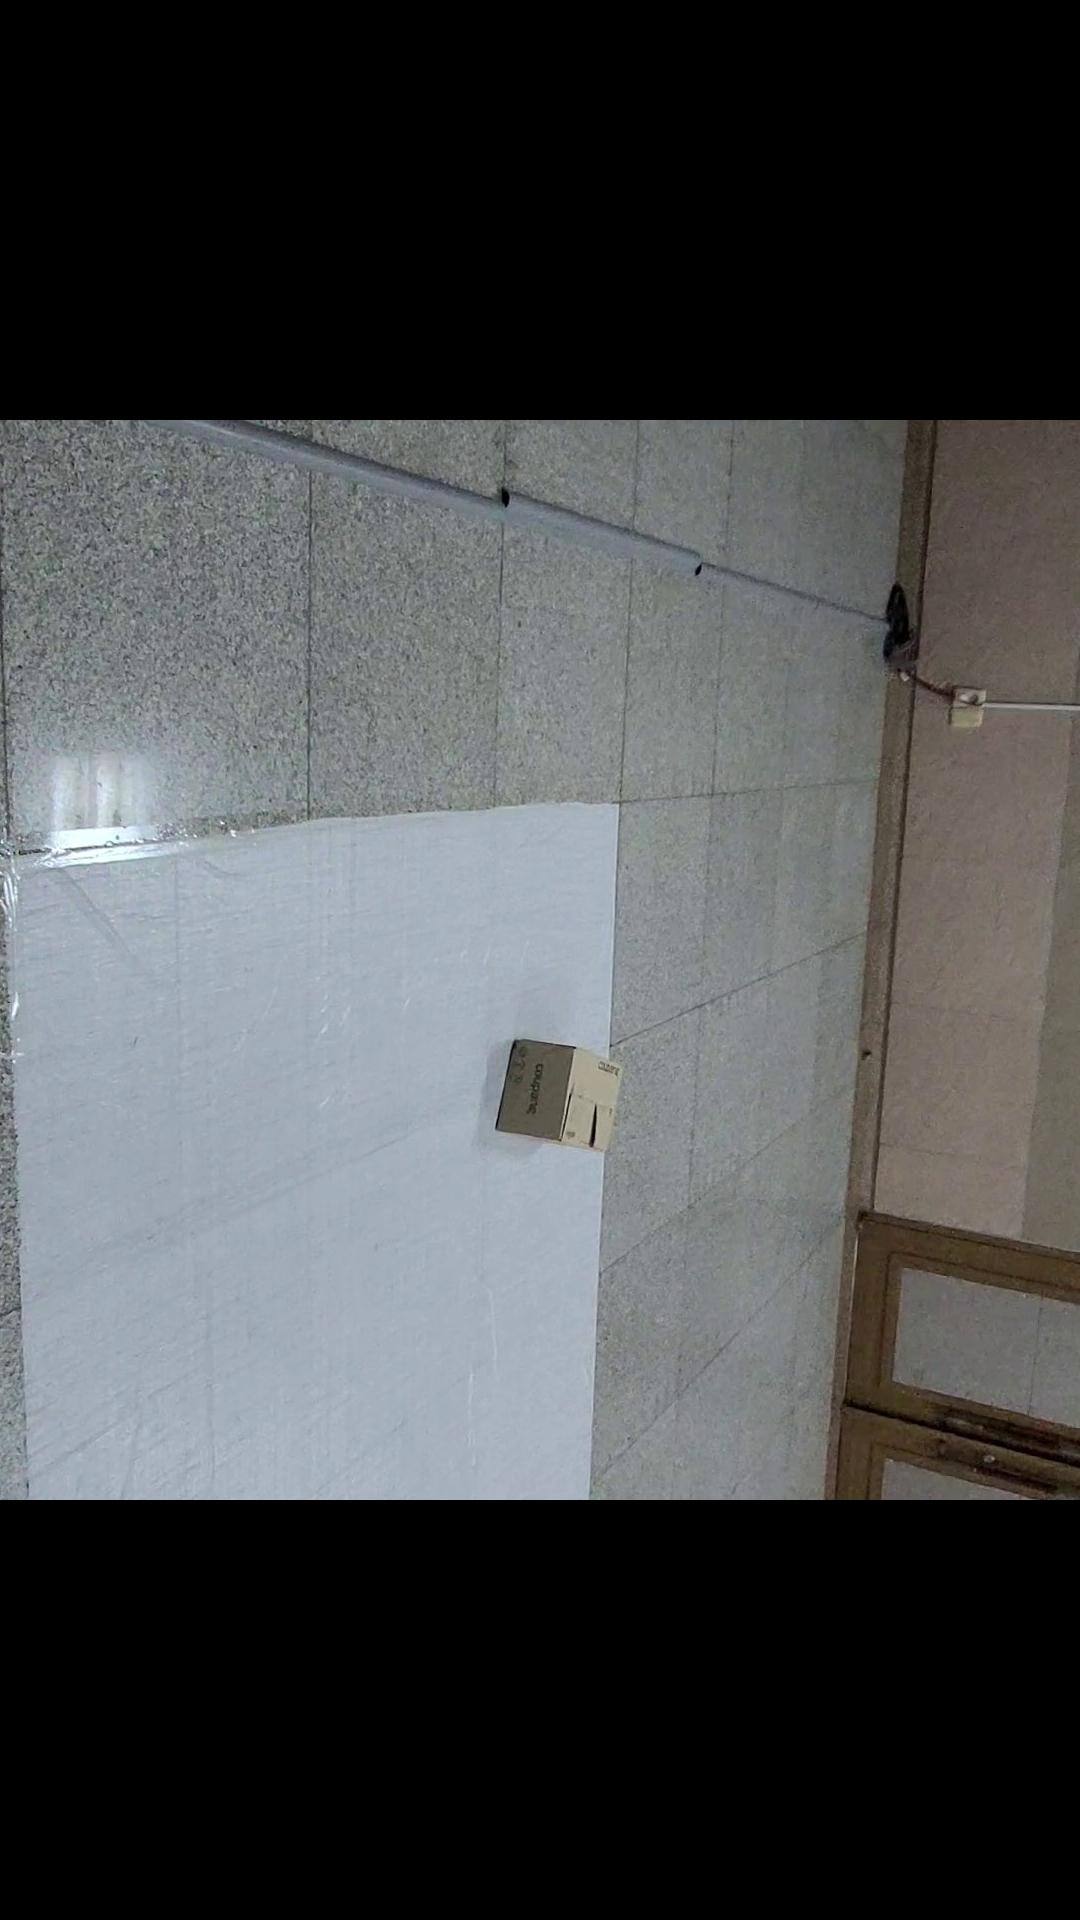Box: (469, 1033, 647, 1178)
